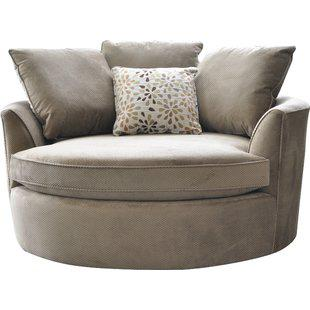chair: (4, 35, 304, 283)
